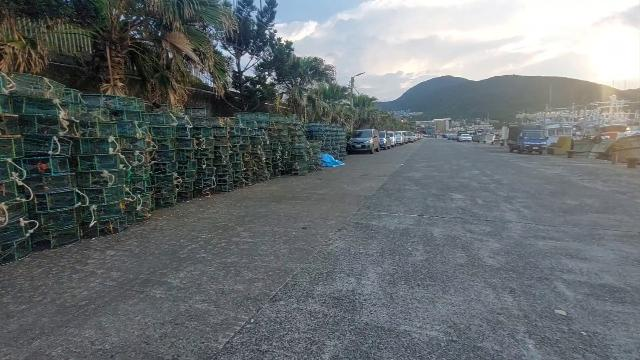pollute: (320, 154, 352, 169)
